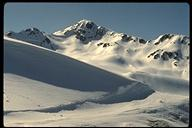mountain: (6, 15, 189, 123)
sky: (114, 4, 184, 29)
snow: (69, 47, 135, 67)
